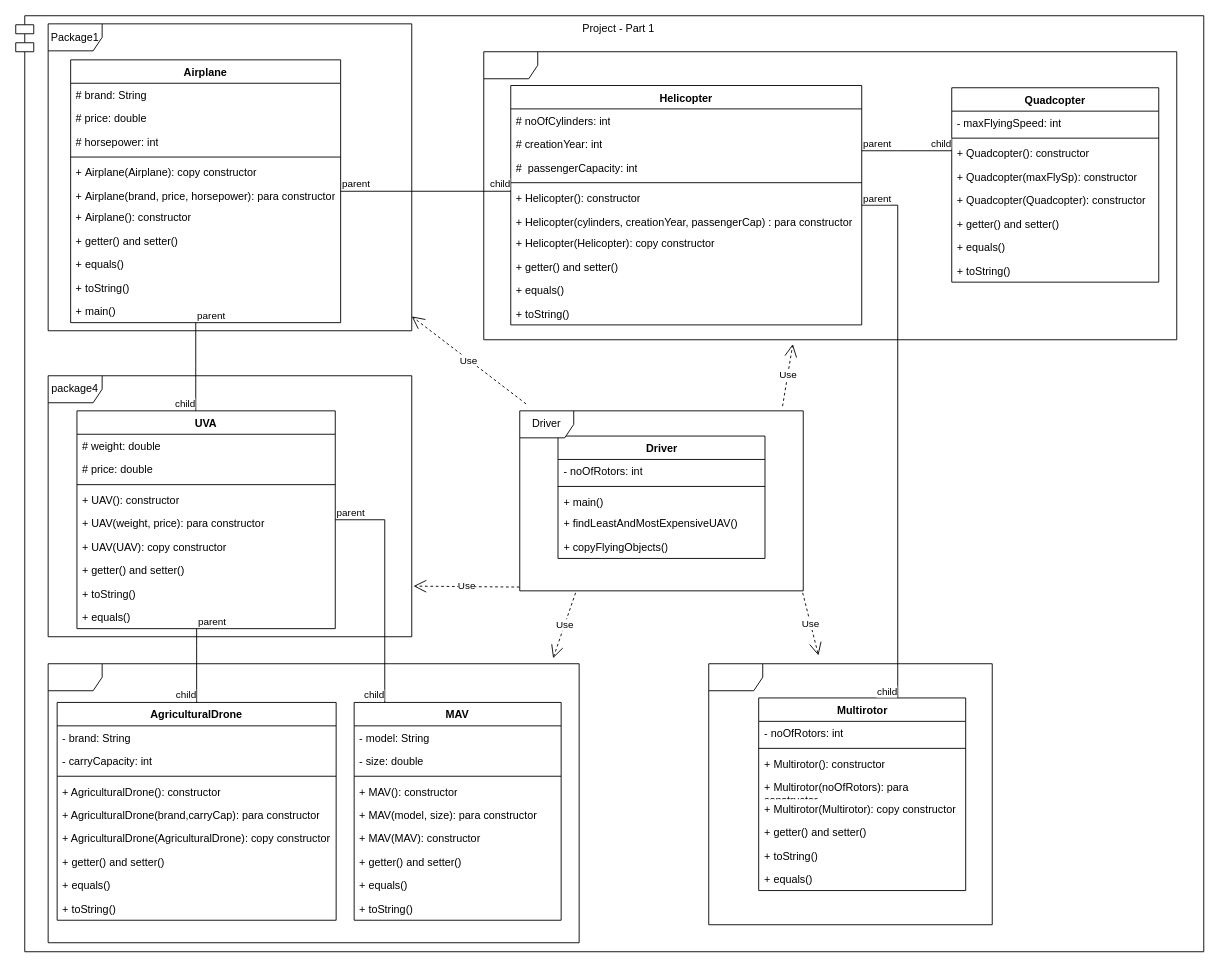
The diagram is 1220 pixels wide and 968 high, and some of its shapes have lost their labels. The centre of each missing label's shape, as x and y in pixels:
"Package2" belongs at [830,195].
"Package3" belongs at [850,794].
"package5" belongs at [313,803].
